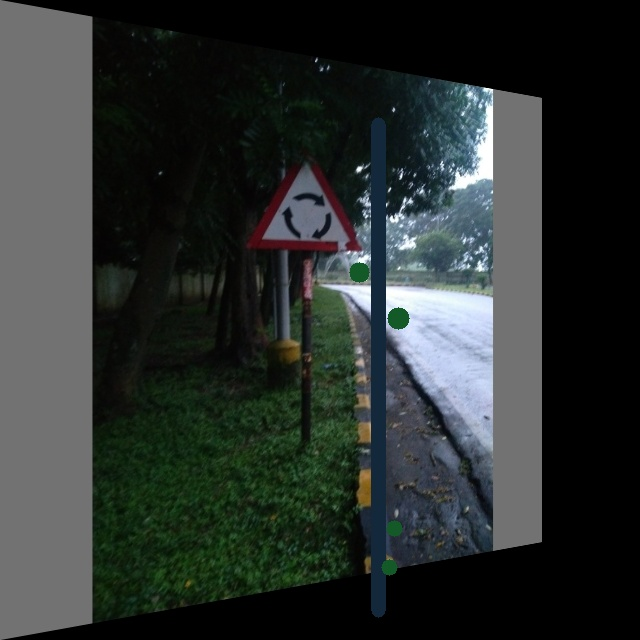Round_About: (241, 142, 364, 261)
